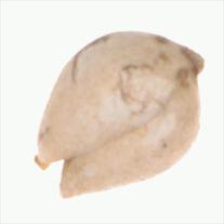L1: (167, 38, 203, 93), (34, 145, 69, 199)
L2: (35, 30, 204, 198)
